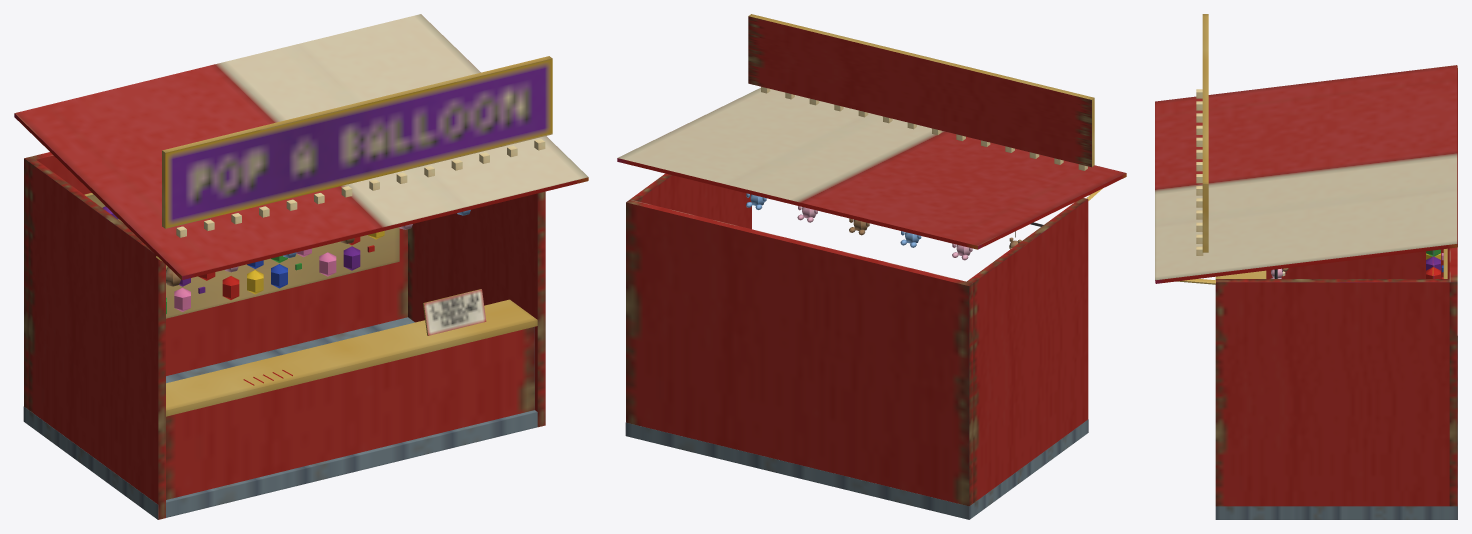
Rendered from booth_balloons.obj.
3 views of the same model, side by side, from view 1: azimuth 30°, elevation 25°; view 2: azimuth 150°, elevation 25°; view 3: azimuth 270°, elevation 25° (orthographic). The views are drawn at different scales.
Visible parts, largest first — view 1: booth_balloons_roof, booth_balloons_counter, booth_balloons_side_l, booth_balloons_back, booth_balloons_side_r, booth_balloons, booth_balloons_stock, booth_balloons_bulbs; view 2: booth_balloons_back, booth_balloons_roof, booth_balloons_side_l, booth_balloons, booth_balloons_side_r, booth_balloons_prizes, booth_balloons_bulbs; view 3: booth_balloons_roof, booth_balloons_side_r, booth_balloons, booth_balloons_side_l, booth_balloons_back, booth_balloons_bulbs, booth_balloons_stock.
Boxes of the visible parts, x1,y1,x2,y2 form: booth_balloons_roof: (14, 14, 588, 279); booth_balloons_counter: (166, 289, 537, 499); booth_balloons_side_l: (28, 160, 165, 519); booth_balloons_back: (24, 152, 407, 409); booth_balloons_side_r: (408, 191, 545, 427); booth_balloons: (23, 317, 537, 519); booth_balloons_stock: (84, 193, 399, 385); booth_balloons_bulbs: (176, 139, 545, 237); booth_balloons_back: (626, 199, 973, 506); booth_balloons_roof: (617, 14, 1126, 249); booth_balloons_side_l: (967, 198, 1088, 502); booth_balloons: (625, 419, 1088, 519); booth_balloons_side_r: (630, 173, 751, 229); booth_balloons_prizes: (746, 193, 1043, 260); booth_balloons_bulbs: (761, 86, 1087, 170); booth_balloons_roof: (1155, 14, 1457, 284); booth_balloons_side_r: (1215, 279, 1449, 506); booth_balloons: (1215, 336, 1457, 519); booth_balloons_side_l: (1266, 248, 1449, 278); booth_balloons_back: (1449, 247, 1457, 506); booth_balloons_bulbs: (1196, 89, 1203, 255); booth_balloons_stock: (1426, 248, 1447, 278).
Bounding box in the file's own units: 4.2 × 3.67 × 3.01.
1 material, 1 textured.
